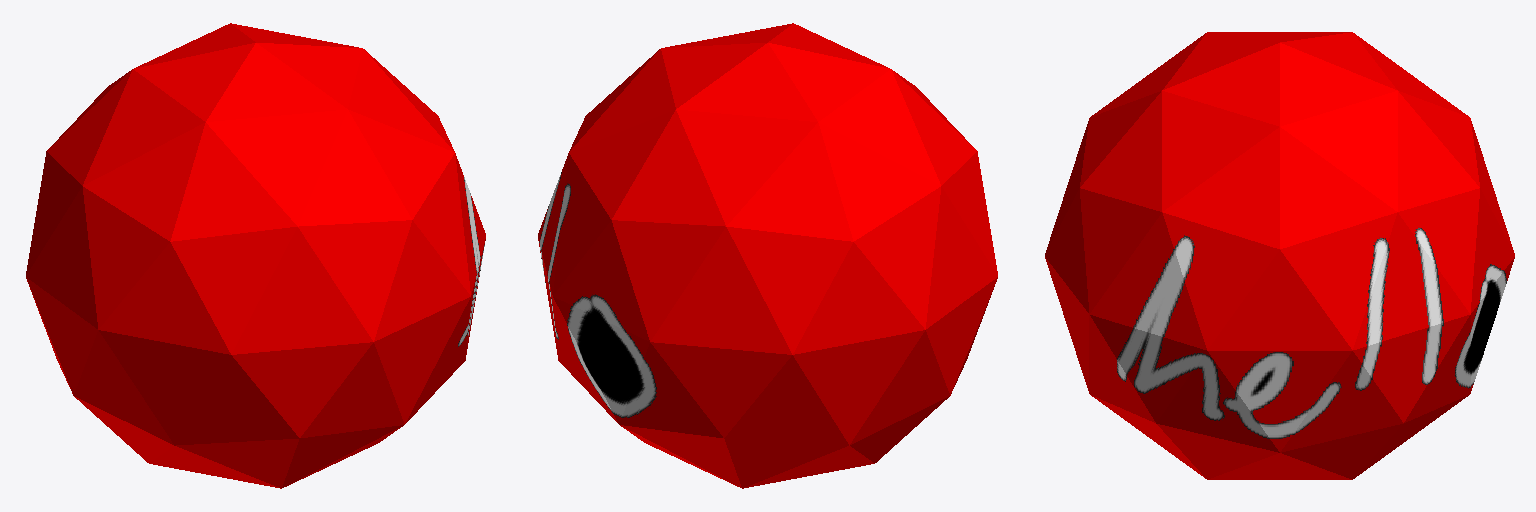
3 renders of one model, left to right at view 1: azimuth 30°, elevation 25°; view 2: azimuth 150°, elevation 25°; view 3: azimuth 270°, elevation 25°, orthographic.
Parts seen in each view (by area): view 1: Sphere; view 2: Sphere; view 3: Sphere.
Part boxes in pixels (x1,y1,x2,y2): Sphere: (26,23,485,488); Sphere: (538,23,997,488); Sphere: (1045,32,1514,479).
Bounding box in the file's own units: 1.9 × 2 × 2.
1 materials, 1 textured.